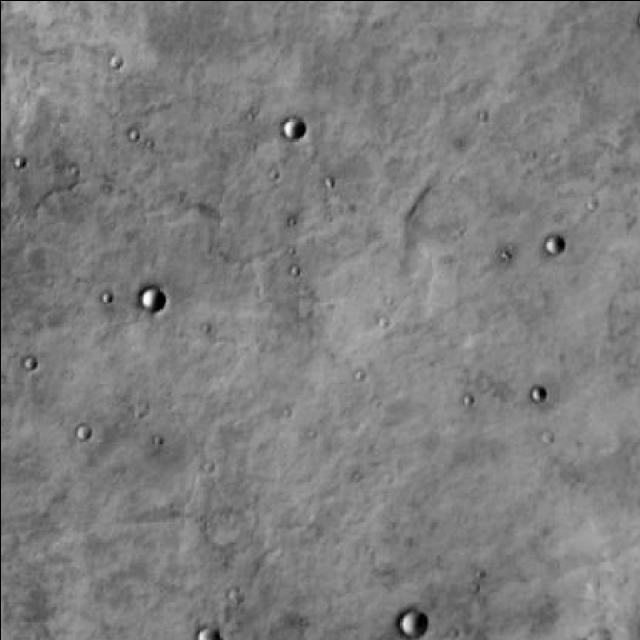crater: (400, 608, 423, 632), (138, 284, 160, 306), (278, 114, 300, 136), (190, 620, 214, 640), (546, 237, 562, 254)
